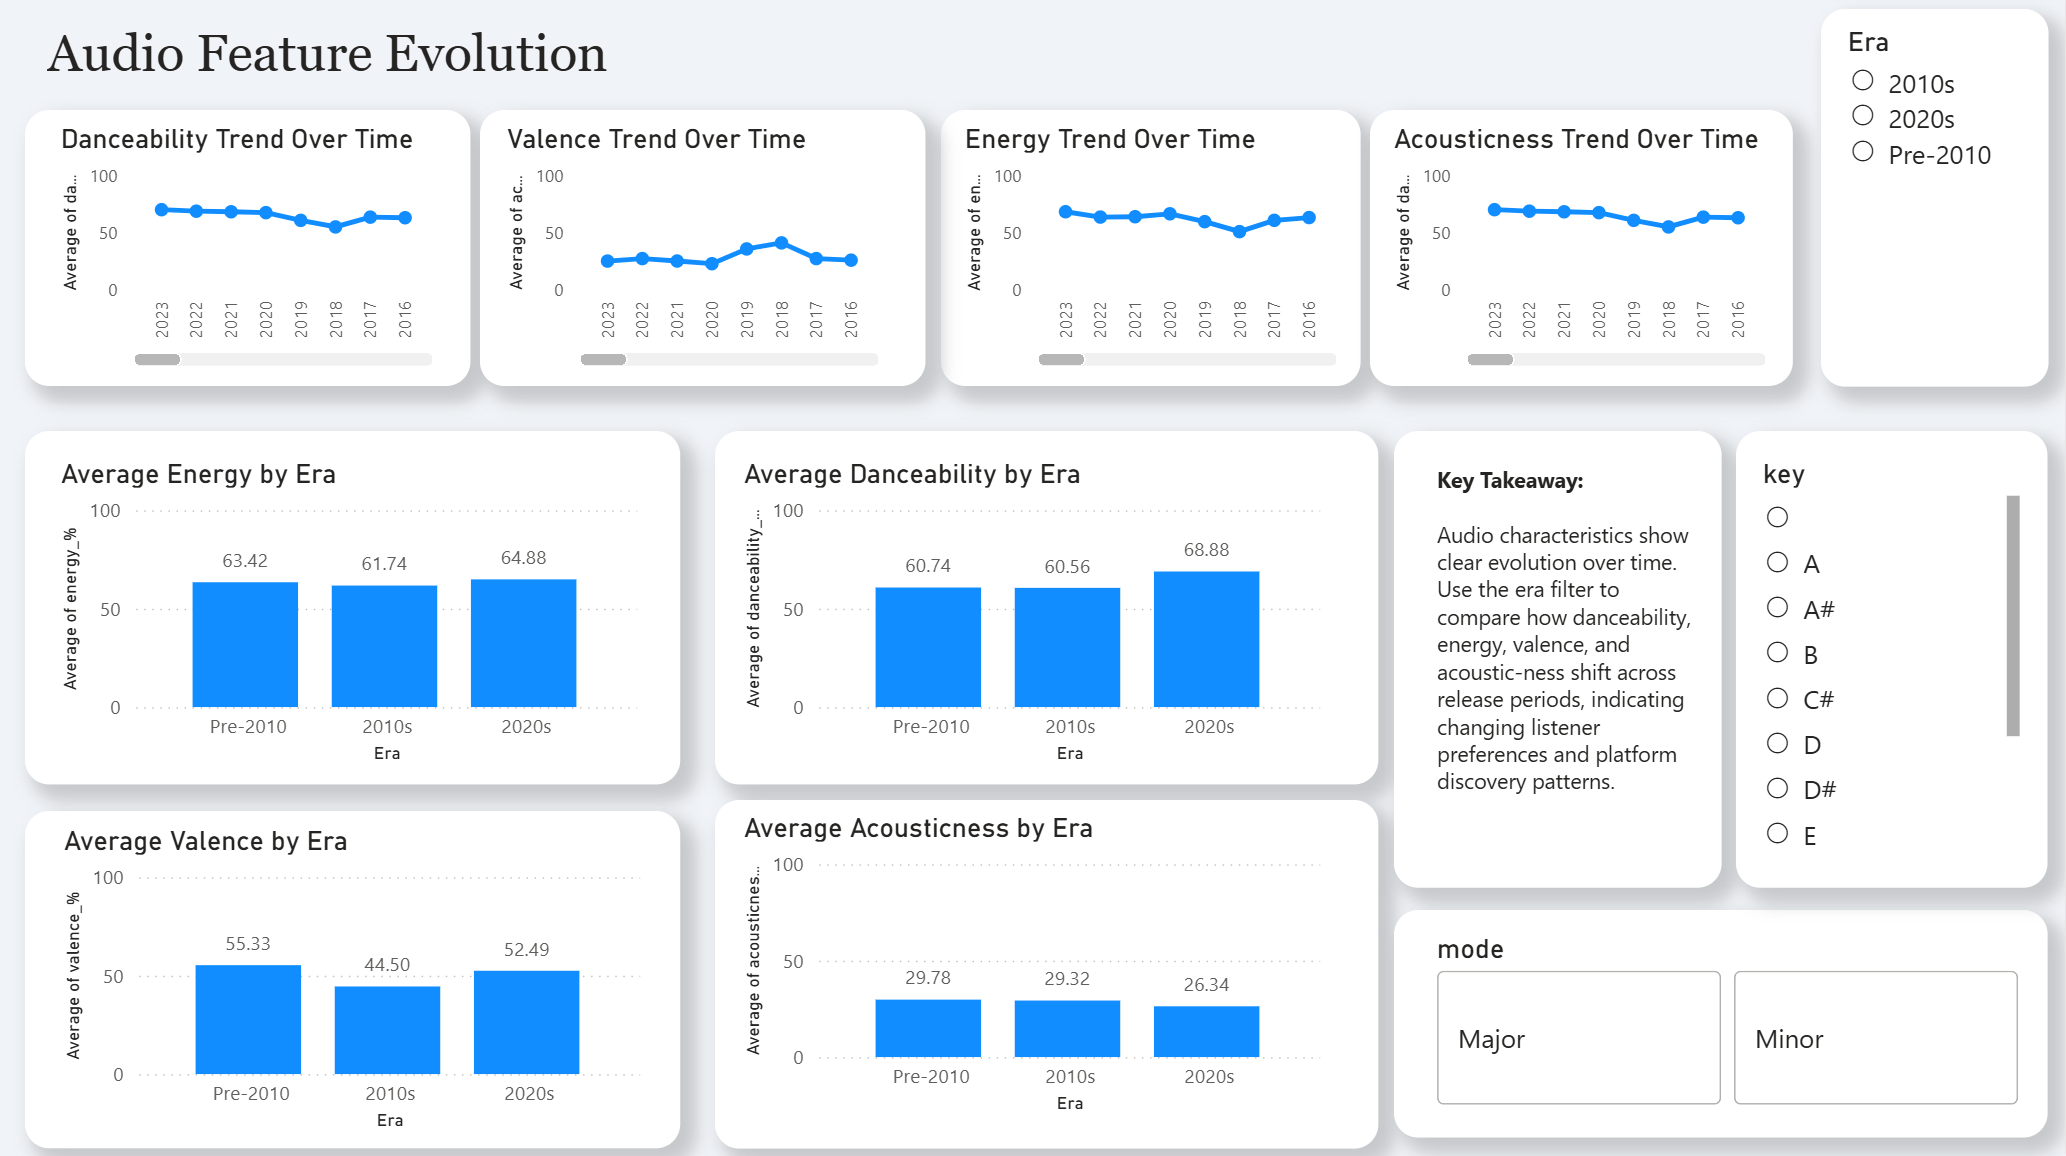

Layout of this report page (visuals, bound fields, positions):
{"tool":"powerbi","page":{"name":"Audio Feature Evolution","canvas":[1280,720],"ordinal":2},"visuals":[{"type":"textbox","box":[15.5,71.3,276.4,171],"z":0},{"type":"lineChart","title":"Danceability Trend Over Time","fields":{"Category":["Popular_Spotify_Songs.released_year"],"Y":["Avg(Popular_Spotify_Songs.danceability_%)"]},"box":[32.8,78.7,240.4,156.1],"z":1000},{"type":"textbox","box":[583.1,71.3,260.2,171],"z":1500},{"type":"lineChart","title":"Energy Trend Over Time","fields":{"Category":["Popular_Spotify_Songs.released_year"],"Y":["Avg(Popular_Spotify_Songs.energy_%)"]},"box":[593,78.7,240.4,156.1],"z":2000},{"type":"textbox","box":[297.4,71.3,276.4,171],"z":2500},{"type":"lineChart","title":"Valence Trend Over Time","fields":{"Category":["Popular_Spotify_Songs.released_year"],"Y":["Avg(Popular_Spotify_Songs.acousticness_%)"]},"box":[309.2,78.7,240.4,156.1],"z":3000},{"type":"textbox","box":[848.9,71.3,262.1,171],"z":3500},{"type":"lineChart","title":"Acousticness Trend Over Time","fields":{"Category":["Popular_Spotify_Songs.released_year"],"Y":["Avg(Popular_Spotify_Songs.danceability_%)"]},"box":[858.8,78.7,240.4,156.1],"z":4000},{"type":"textbox","box":[15.5,270.2,405.9,219.3],"z":4500},{"type":"clusteredColumnChart","title":"Average Energy by Era","fields":{"Y":["Avg(Popular_Spotify_Songs.energy_%)"],"Category":["EraSort.Era"]},"box":[32.8,286.3,367.4,193.9],"z":5000},{"type":"textbox","box":[443,270.2,410.8,219.3],"z":5500},{"type":"clusteredColumnChart","title":"Average Danceability by Era","fields":{"Y":["Avg(Popular_Spotify_Songs.danceability_%)"],"Category":["EraSort.Era"]},"box":[456,286.3,367.4,193.9],"z":6000},{"type":"textbox","box":[15.5,505.6,405.9,208.8],"z":6500},{"type":"clusteredColumnChart","title":"Average Valence by Era","fields":{"Y":["Avg(Popular_Spotify_Songs.valence_%)"],"Category":["EraSort.Era"]},"box":[34.7,513.7,367.4,193.9],"z":7000},{"type":"textbox","box":[443,505.6,410.8,208.8],"z":7500},{"type":"clusteredColumnChart","title":"Average Acousticness by Era","fields":{"Y":["Avg(Popular_Spotify_Songs.acousticness_%)"],"Category":["EraSort.Era"]},"box":[456,513.7,367.4,193.9],"z":8000},{"type":"textbox","box":[1128.3,8.7,140.7,233.6],"z":8500},{"type":"listSlicer","fields":{"Values":["Popular_Spotify_Songs.Era"]},"box":[1140.1,18.6,110.9,205.1],"z":9000},{"type":"textbox","box":[863.8,270.2,202.6,283.2],"z":9500},{"type":"textbox","box":[885.4,286.3,169.2,252.8],"z":10000},{"type":"textbox","box":[863.8,567,405.2,140.7],"z":10500},{"type":"advancedSlicerVisual","fields":{"Values":["Popular_Spotify_Songs.mode"]},"box":[885.4,580.6,371.2,112.2],"z":11000},{"type":"textbox","box":[1075.7,270.2,193.3,283.2],"z":11500},{"type":"listSlicer","fields":{"Values":["Popular_Spotify_Songs.key"]},"box":[1087.4,286.3,169.2,252.8],"z":12000},{"type":"textbox","box":[24.2,13,373,51.4],"z":13000}]}

Visuals, with their boxes in screenshot pixels (x1, y1, x2, y2), scaled from the page's 1280x720 canvas onto the 2066x1156 screenshot:
textbox: Rect(25, 114, 471, 389)
"Danceability Trend Over Time" lineChart: Rect(53, 126, 441, 377)
textbox: Rect(941, 114, 1361, 389)
"Energy Trend Over Time" lineChart: Rect(957, 126, 1345, 377)
textbox: Rect(480, 114, 926, 389)
"Valence Trend Over Time" lineChart: Rect(499, 126, 887, 377)
textbox: Rect(1370, 114, 1793, 389)
"Acousticness Trend Over Time" lineChart: Rect(1386, 126, 1774, 377)
textbox: Rect(25, 434, 680, 786)
"Average Energy by Era" clusteredColumnChart: Rect(53, 460, 646, 771)
textbox: Rect(715, 434, 1378, 786)
"Average Danceability by Era" clusteredColumnChart: Rect(736, 460, 1329, 771)
textbox: Rect(25, 812, 680, 1147)
"Average Valence by Era" clusteredColumnChart: Rect(56, 825, 649, 1136)
textbox: Rect(715, 812, 1378, 1147)
"Average Acousticness by Era" clusteredColumnChart: Rect(736, 825, 1329, 1136)
textbox: Rect(1821, 14, 2048, 389)
listSlicer - Popular_Spotify_Songs.Era: Rect(1840, 30, 2019, 359)
textbox: Rect(1394, 434, 1721, 889)
textbox: Rect(1429, 460, 1702, 866)
textbox: Rect(1394, 910, 2048, 1136)
advancedSlicerVisual - Popular_Spotify_Songs.mode: Rect(1429, 932, 2028, 1112)
textbox: Rect(1736, 434, 2048, 889)
listSlicer - Popular_Spotify_Songs.key: Rect(1755, 460, 2028, 866)
textbox: Rect(39, 21, 641, 103)
